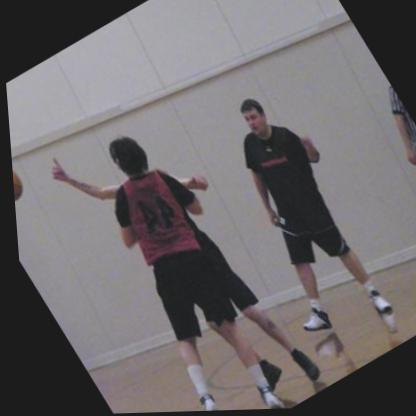basketball: (9, 161, 26, 208)
